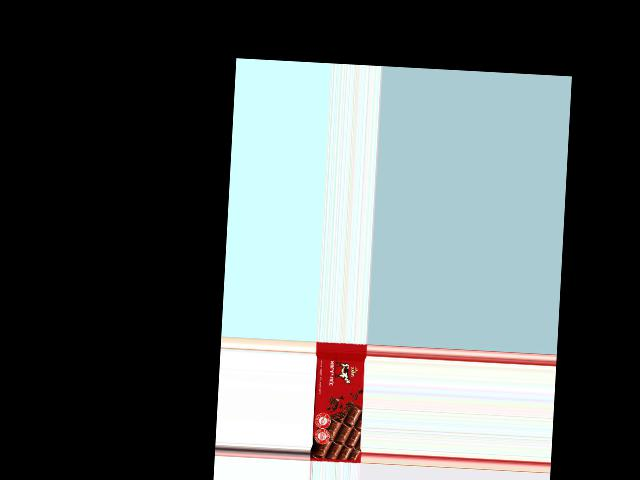chocolate: (309, 343, 366, 463)
